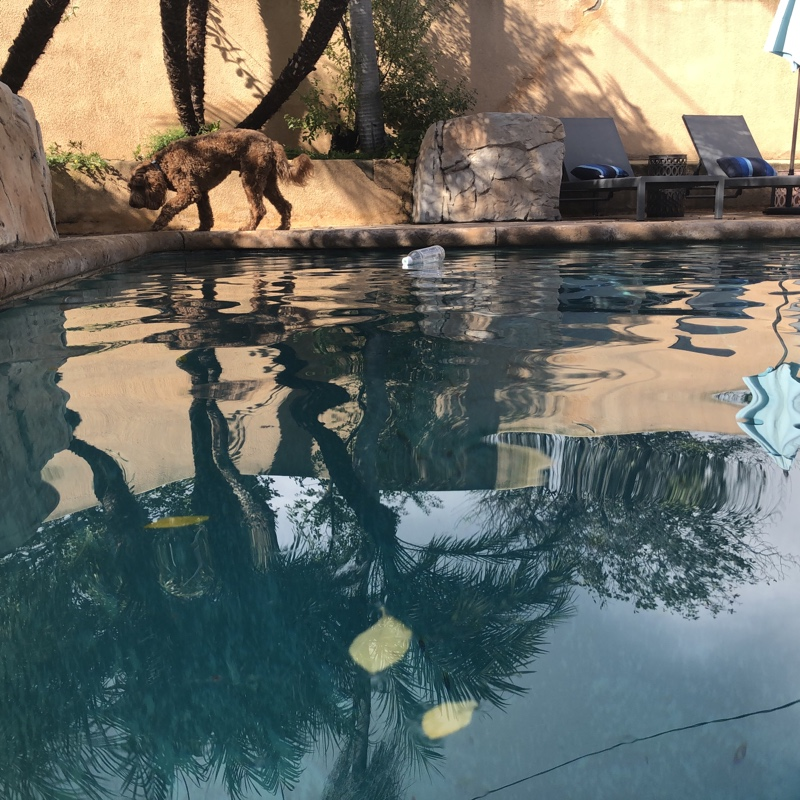Plastic Bottle: (398, 244, 445, 269)
